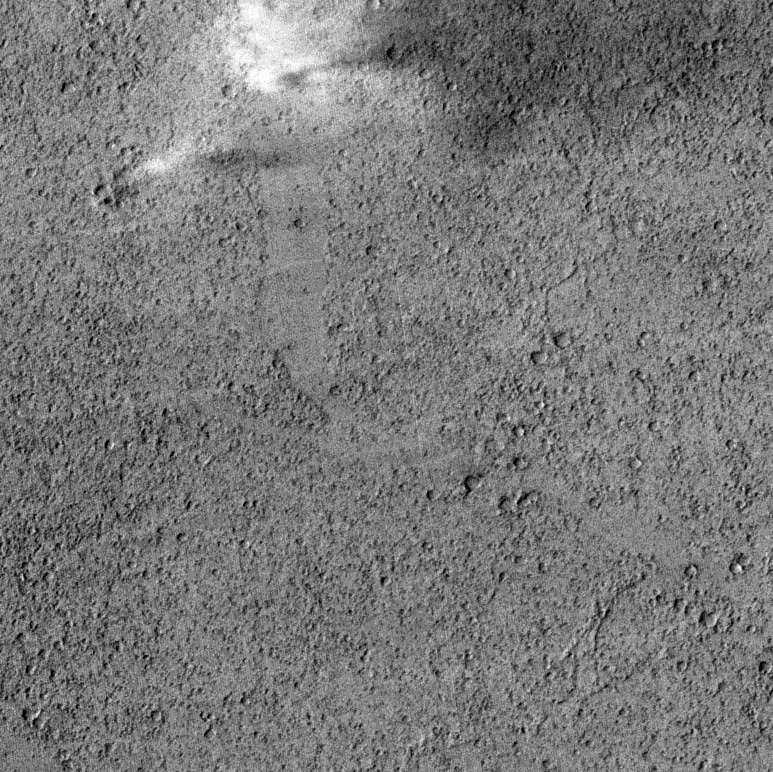dust_devil: (218, 1, 579, 160), (133, 142, 293, 181)
